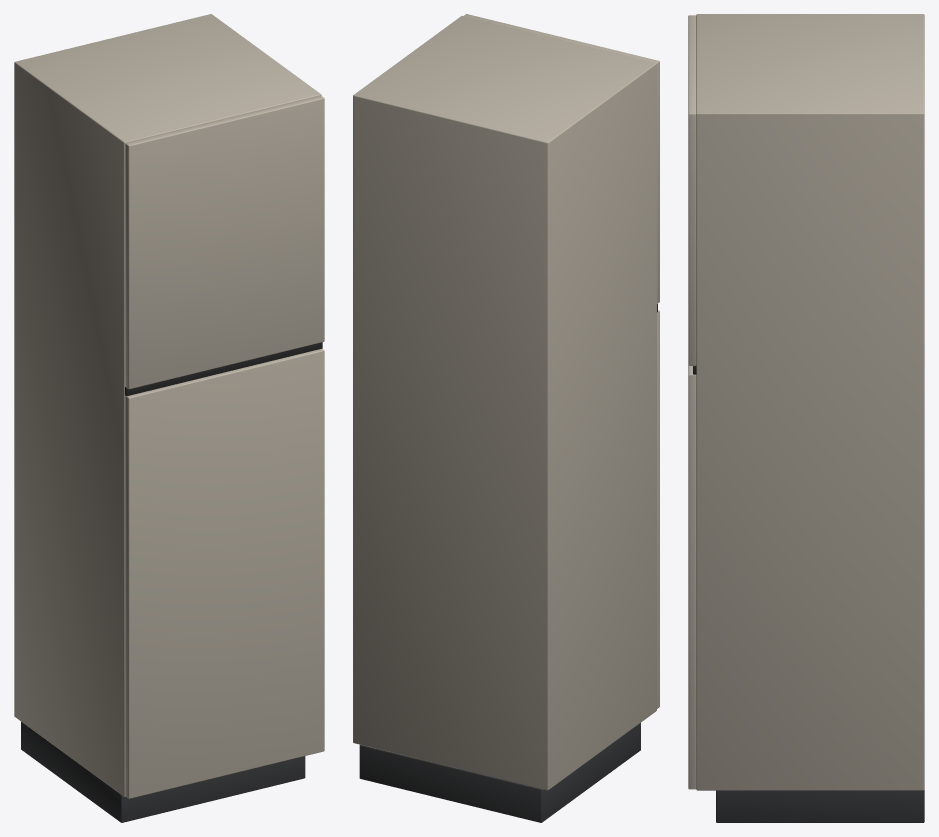
Rendered from tallcab.glb.
3 renders of one model, left to right at view 1: azimuth 30°, elevation 25°; view 2: azimuth 150°, elevation 25°; view 3: azimuth 270°, elevation 25°, orthographic. The views are drawn at different scales.
Visible parts, largest first — view 1: body, door_low, door_up, plinth, door_channel; view 2: body, plinth, door_up, door_low; view 3: body, plinth, door_low, door_up.
Boxes of the visible parts, x1,y1,x2,y2 form: body: (14,14,321,796); door_low: (125,348,324,798); door_up: (125,95,324,389); plinth: (21,721,305,822); door_channel: (125,342,322,396); body: (353,15,656,790); plinth: (359,723,640,822); door_up: (464,14,659,303); door_low: (657,310,659,708); body: (696,14,924,790); plinth: (716,790,924,822); door_low: (688,365,696,789); door_up: (688,15,696,365).
Bounding box in the file's own units: 0.6 × 2 × 0.6.
